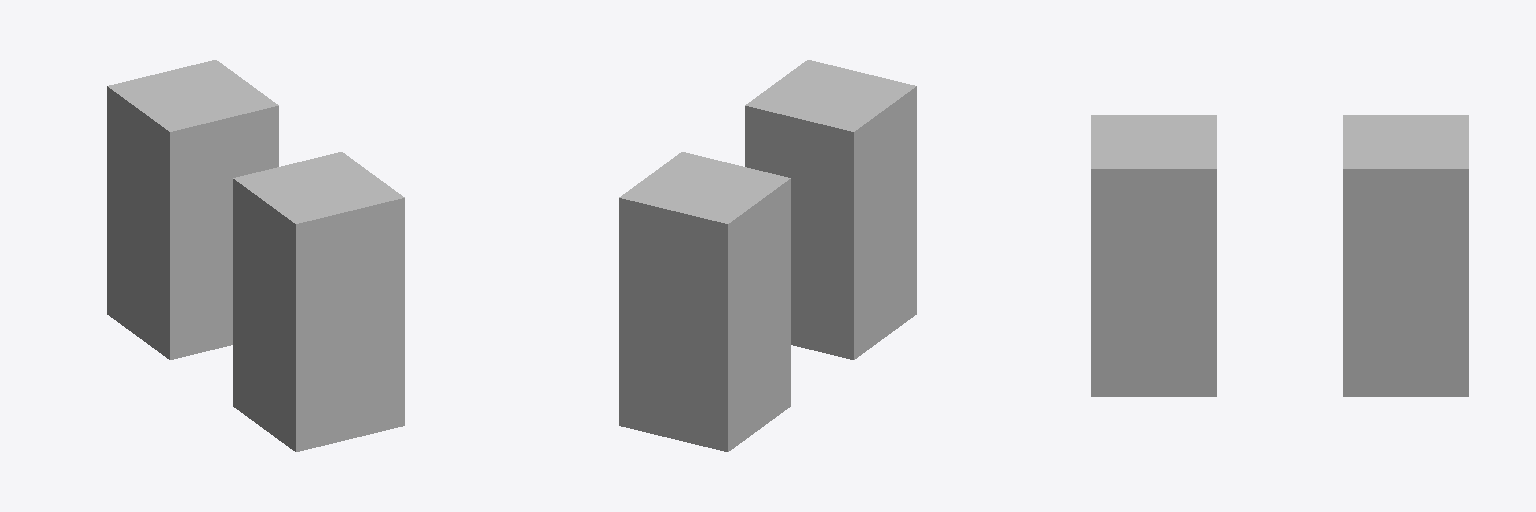
File: fülbevaló.obj
3 renders of one model, left to right at view 1: azimuth 30°, elevation 25°; view 2: azimuth 150°, elevation 25°; view 3: azimuth 270°, elevation 25°, orthographic.
Bounding box in the file's own units: 1 × 2 × 3.